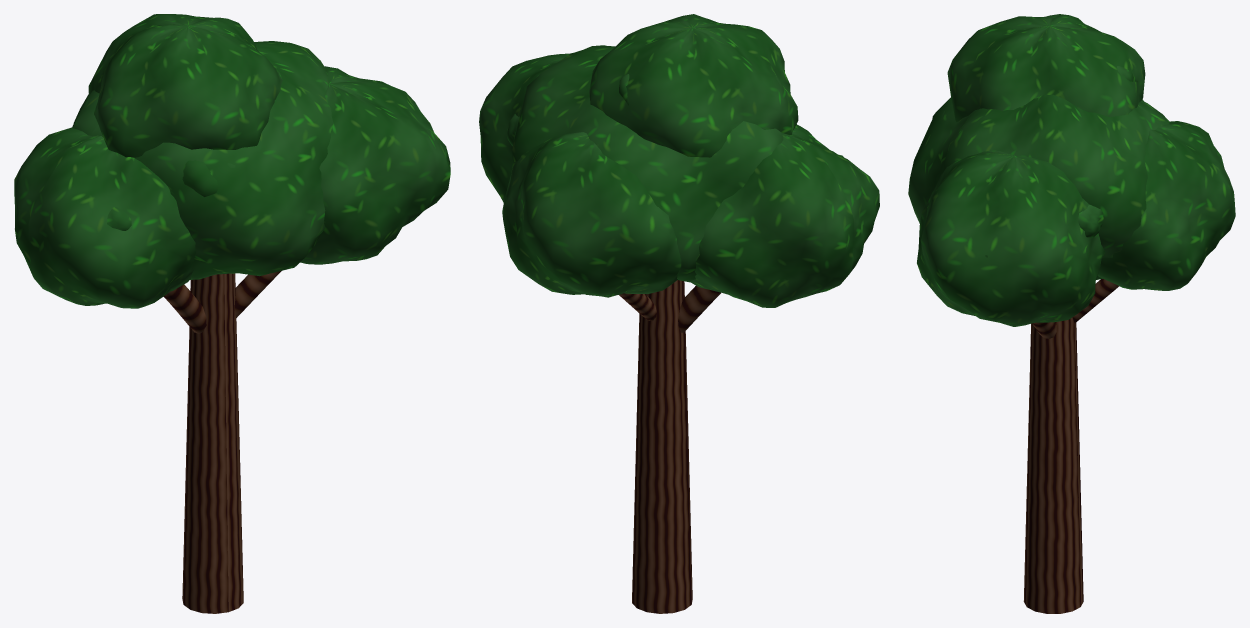
File: tree-maple-street.lod0.gltf
3 renders of one model, left to right at view 1: azimuth 30°, elevation 25°; view 2: azimuth 150°, elevation 25°; view 3: azimuth 270°, elevation 25°, orthographic. The views are drawn at different scales.
Parts seen in each view (by area): view 1: tree-maple-street; view 2: tree-maple-street; view 3: tree-maple-street.
Boxes of the visible parts, box(x1,y1,x2,y2) form: tree-maple-street: box(14, 14, 450, 613); tree-maple-street: box(479, 14, 879, 613); tree-maple-street: box(908, 14, 1235, 613).
Size of the model in its own units: 4.85 by 7.06 by 3.72.
2 materials, 2 textured.
